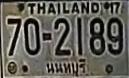0: (24, 18, 40, 54)
1: (77, 17, 82, 55)
2: (55, 17, 70, 55)
7: (7, 18, 21, 55)
8: (89, 17, 104, 54)
9: (106, 17, 122, 54)
NBI: (42, 58, 88, 78)
